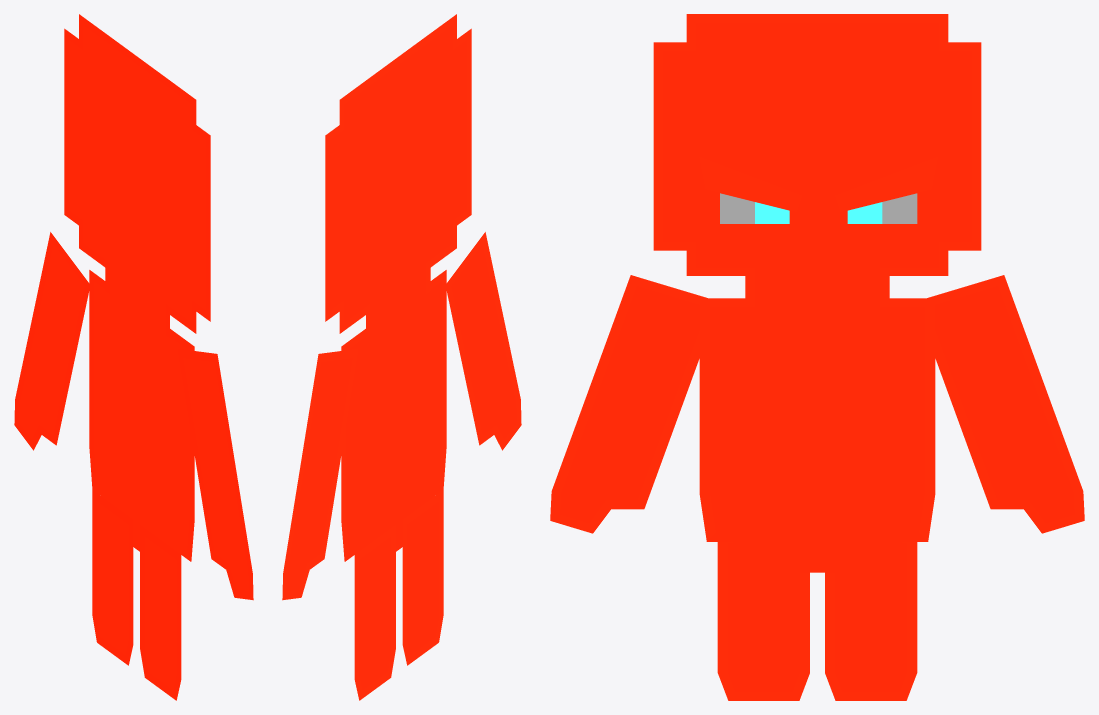
Rendered from RAGE (Front).fbx.
3 renders of one model, left to right at view 1: azimuth 30°, elevation 25°; view 2: azimuth 150°, elevation 25°; view 3: azimuth 270°, elevation 25°, orthographic. The views are drawn at different scales.
Visible parts, largest first — view 1: Plane.035, Plane.059, Plane.050, Plane.027; view 2: Plane.035, Plane.059, Plane.050, Plane.027; view 3: Plane.035, Plane.059, Plane.050, Plane.027, Plane.047, Plane.051.
Part boxes in pixels (x1=…): Plane.035: x1=64, y1=14, x2=210, y2=337; Plane.059: x1=89, y1=270, x2=194, y2=561; Plane.050: x1=14, y1=232, x2=253, y2=600; Plane.027: x1=92, y1=490, x2=181, y2=700; Plane.035: x1=325, y1=14, x2=471, y2=337; Plane.059: x1=341, y1=270, x2=446, y2=561; Plane.050: x1=282, y1=232, x2=521, y2=600; Plane.027: x1=354, y1=490, x2=443, y2=700; Plane.035: x1=653, y1=14, x2=981, y2=298; Plane.059: x1=699, y1=298, x2=935, y2=572; Plane.050: x1=550, y1=275, x2=1084, y2=533; Plane.027: x1=717, y1=542, x2=917, y2=700; Plane.047: x1=698, y1=156, x2=938, y2=212; Plane.051: x1=720, y1=193, x2=917, y2=223.
Bounding box in the file's own units: 5.51 × 410 × 289.
